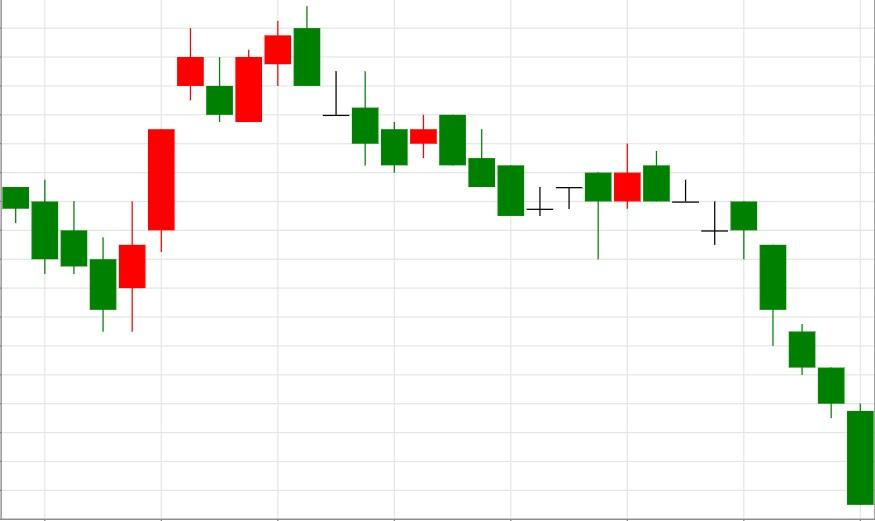bearish_engulfing_fall: (205, 6, 321, 122)
three_white_soldiers_rise: (0, 28, 205, 333)
